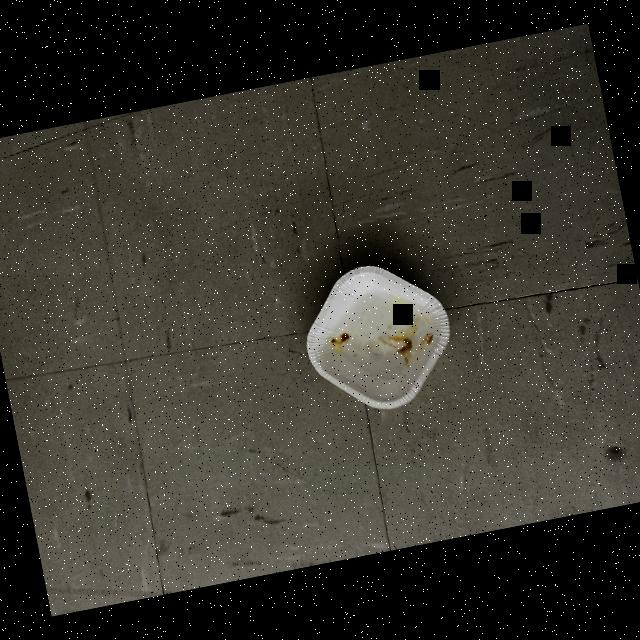cardboard_bowl: (286, 247, 473, 429)
